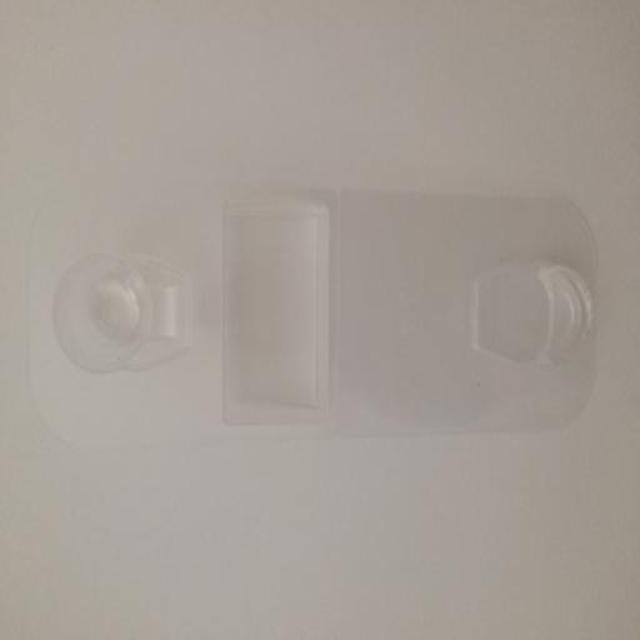plastic: (51, 250, 192, 373), (468, 256, 592, 366)
